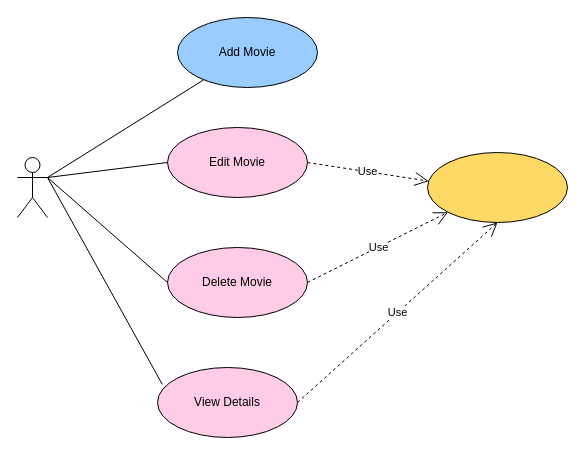
The diagram is 585 pixels wide and 455 high, and some of its shapes have lost their labels. The shapes that lost their labels are listed below. From the top down, each one's box as (x1, y1, x2, y2) in pixels, then its label:
(16, 156, 48, 218): Actor
(426, 152, 568, 222): Search Movie
